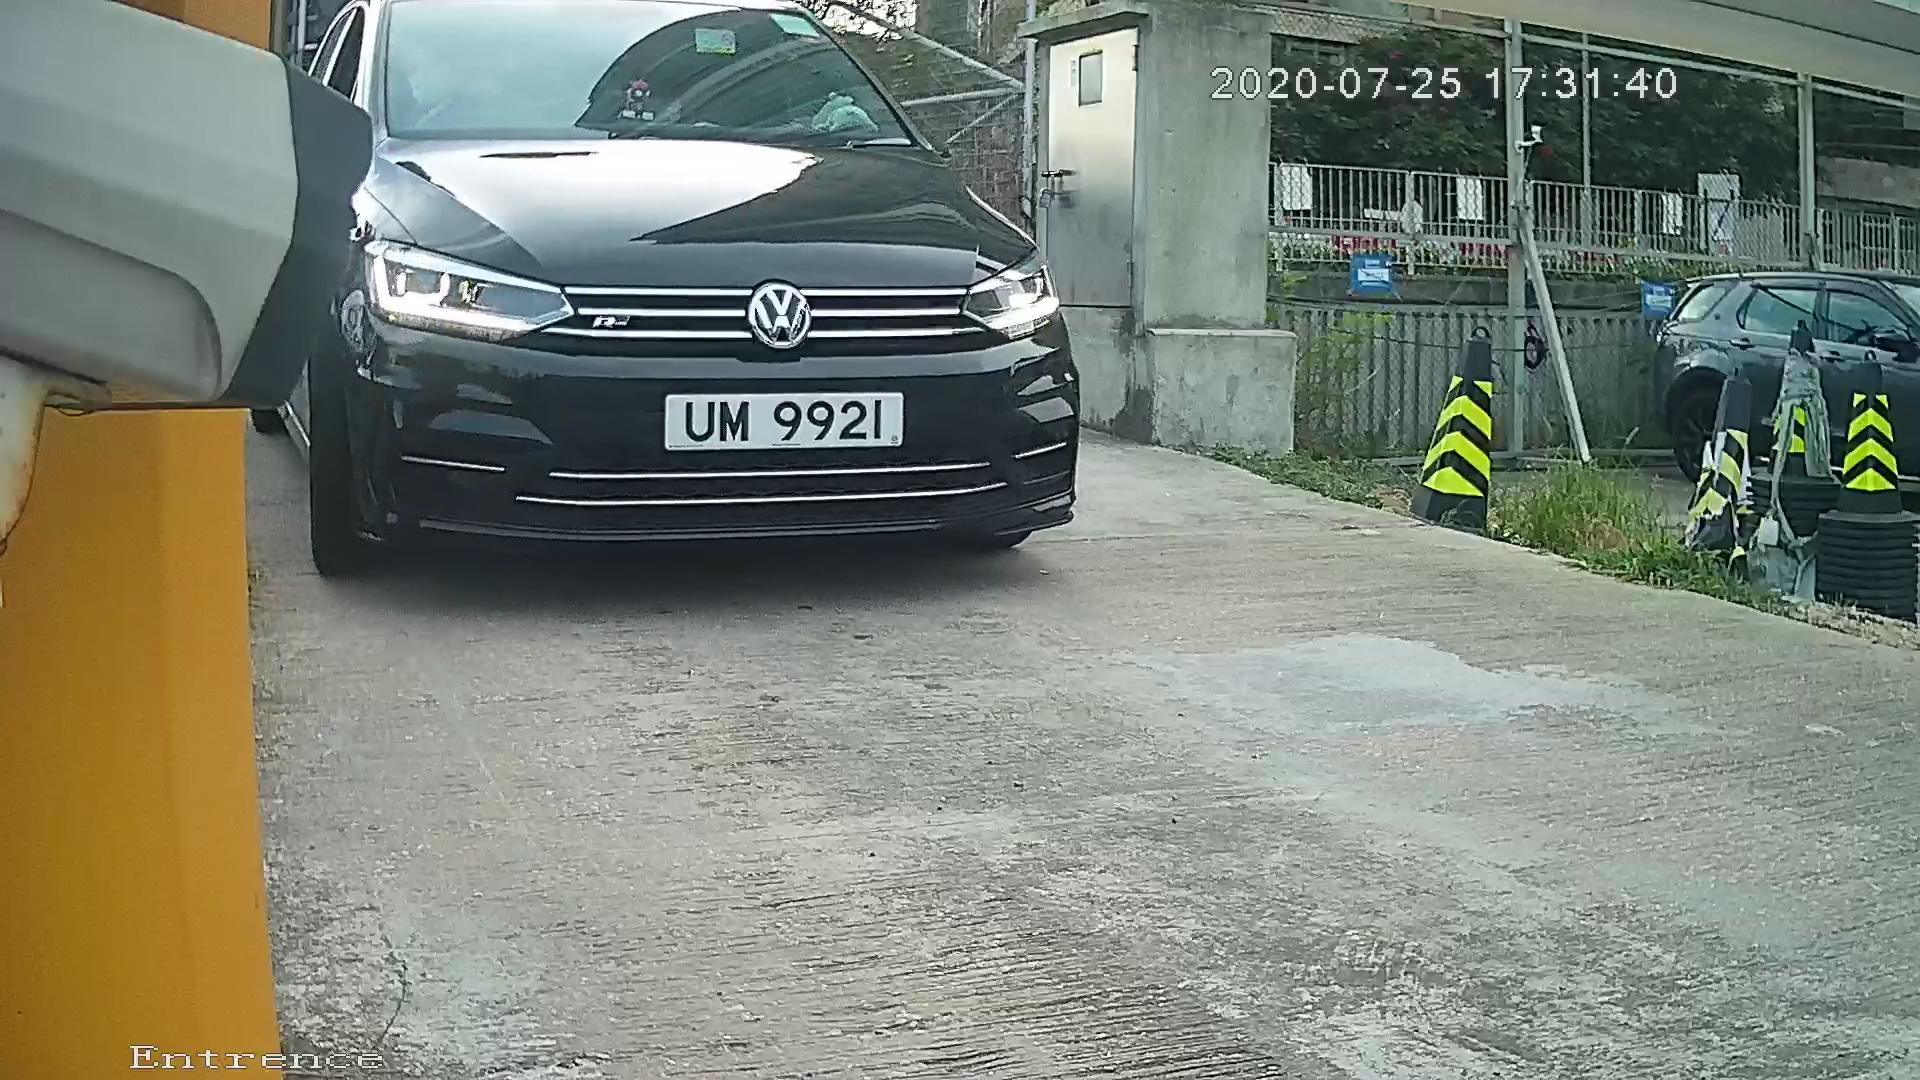License Plate: (626, 381, 935, 468)
